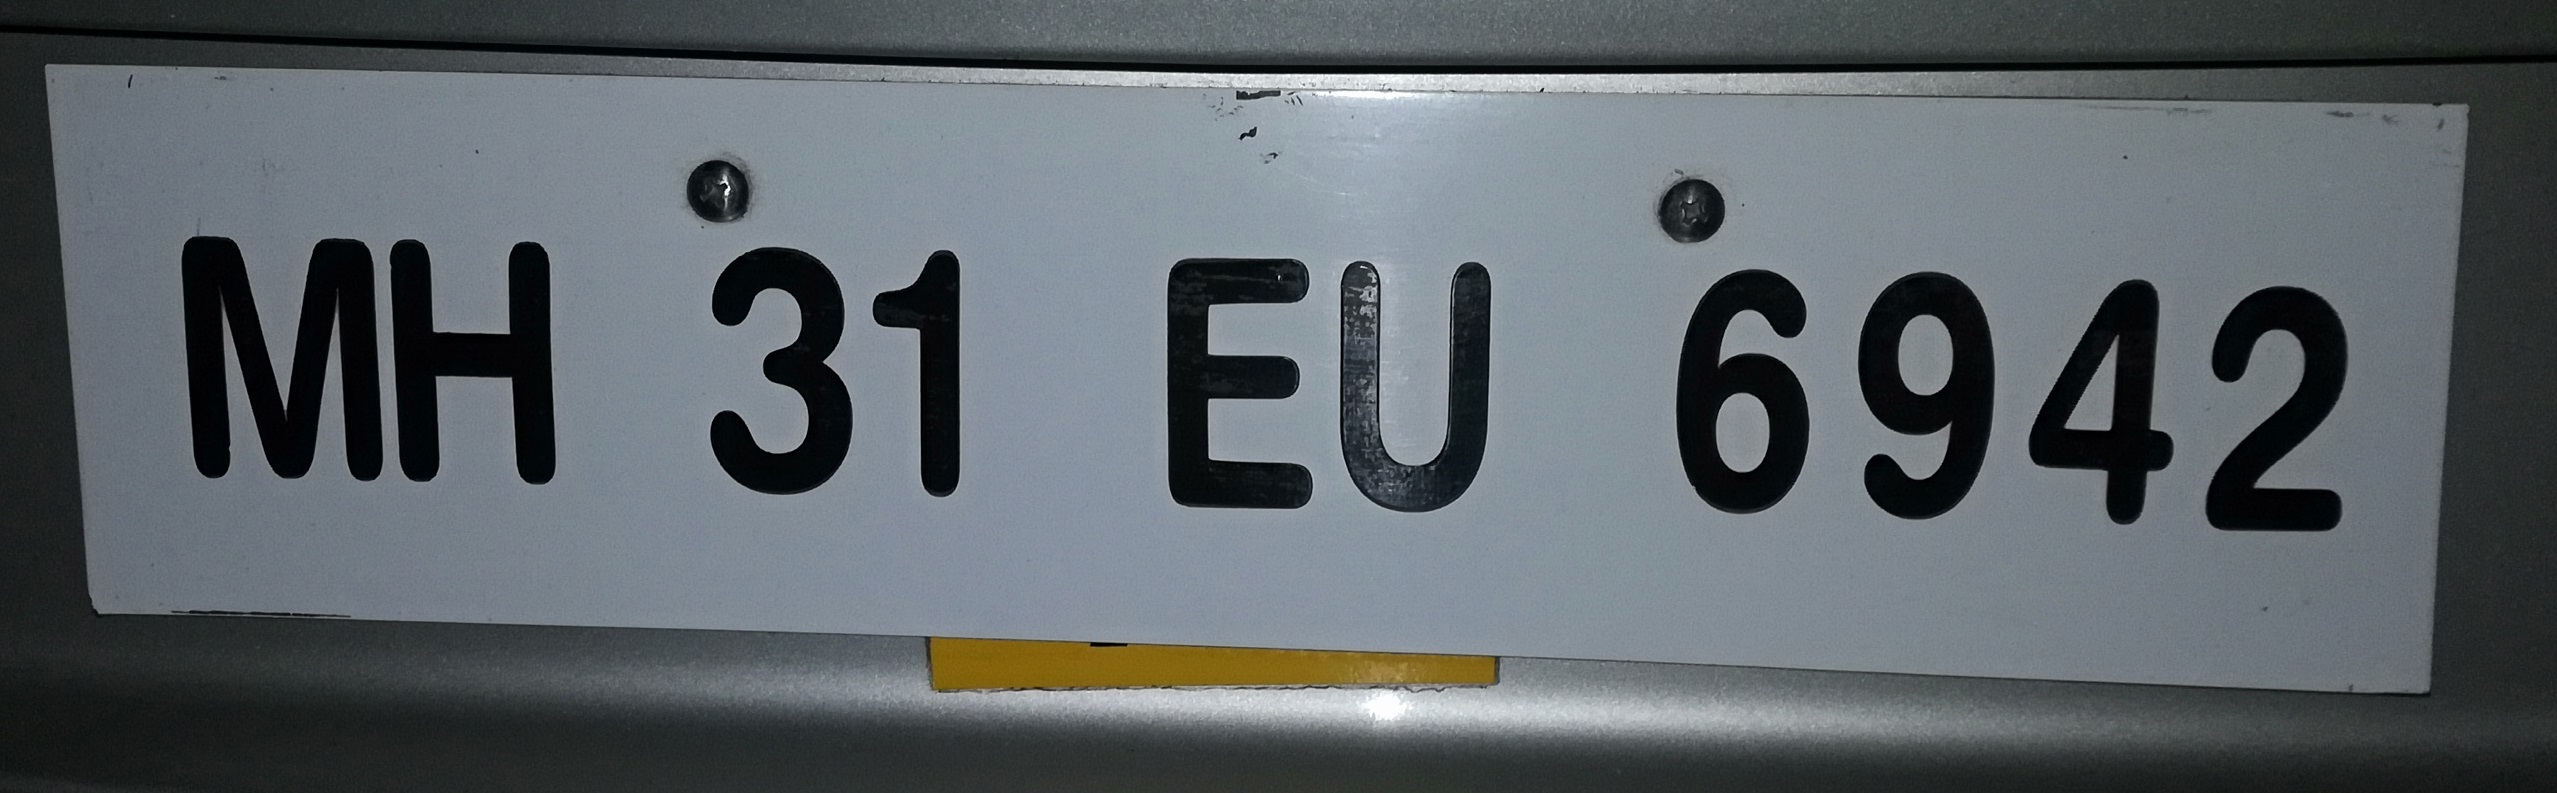numberplate: (35, 50, 2478, 700)
